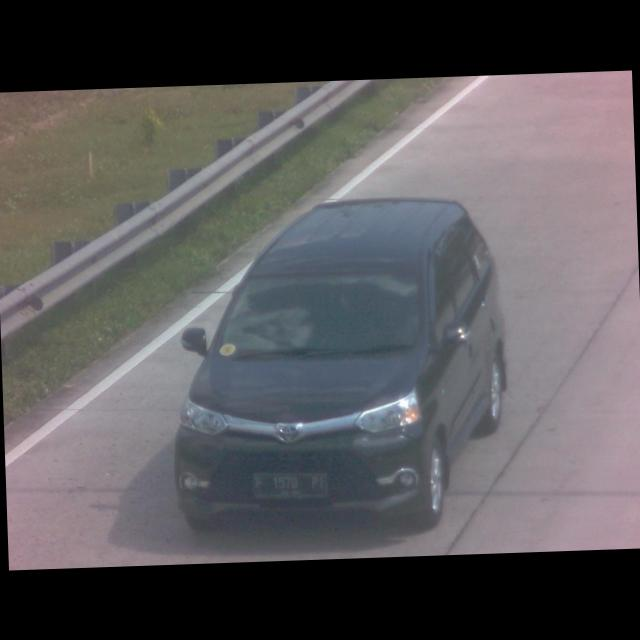plate: (247, 465, 330, 505)
